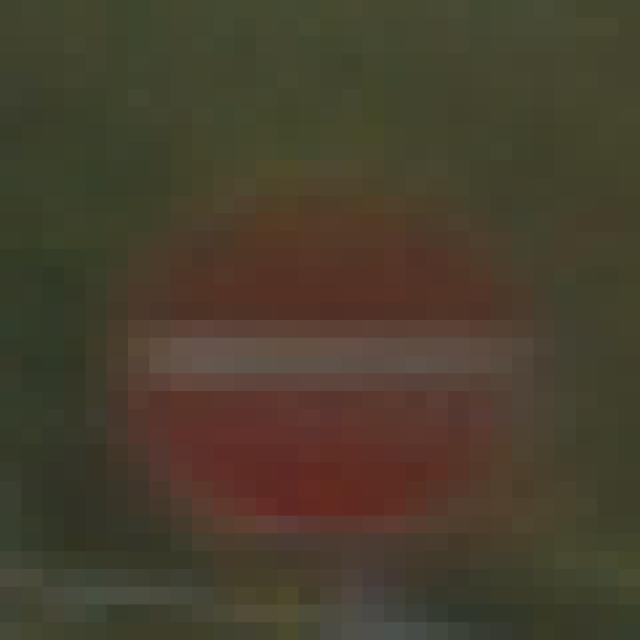No Entry: (108, 108, 534, 534)
